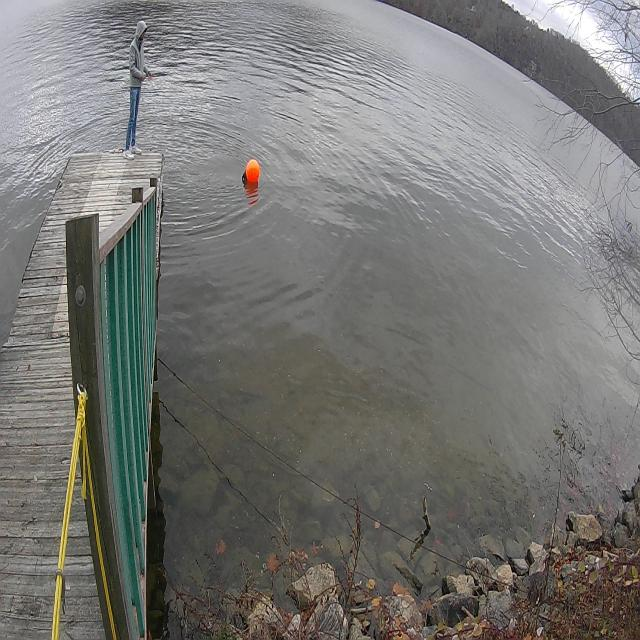Buoy: (242, 156, 263, 194)
